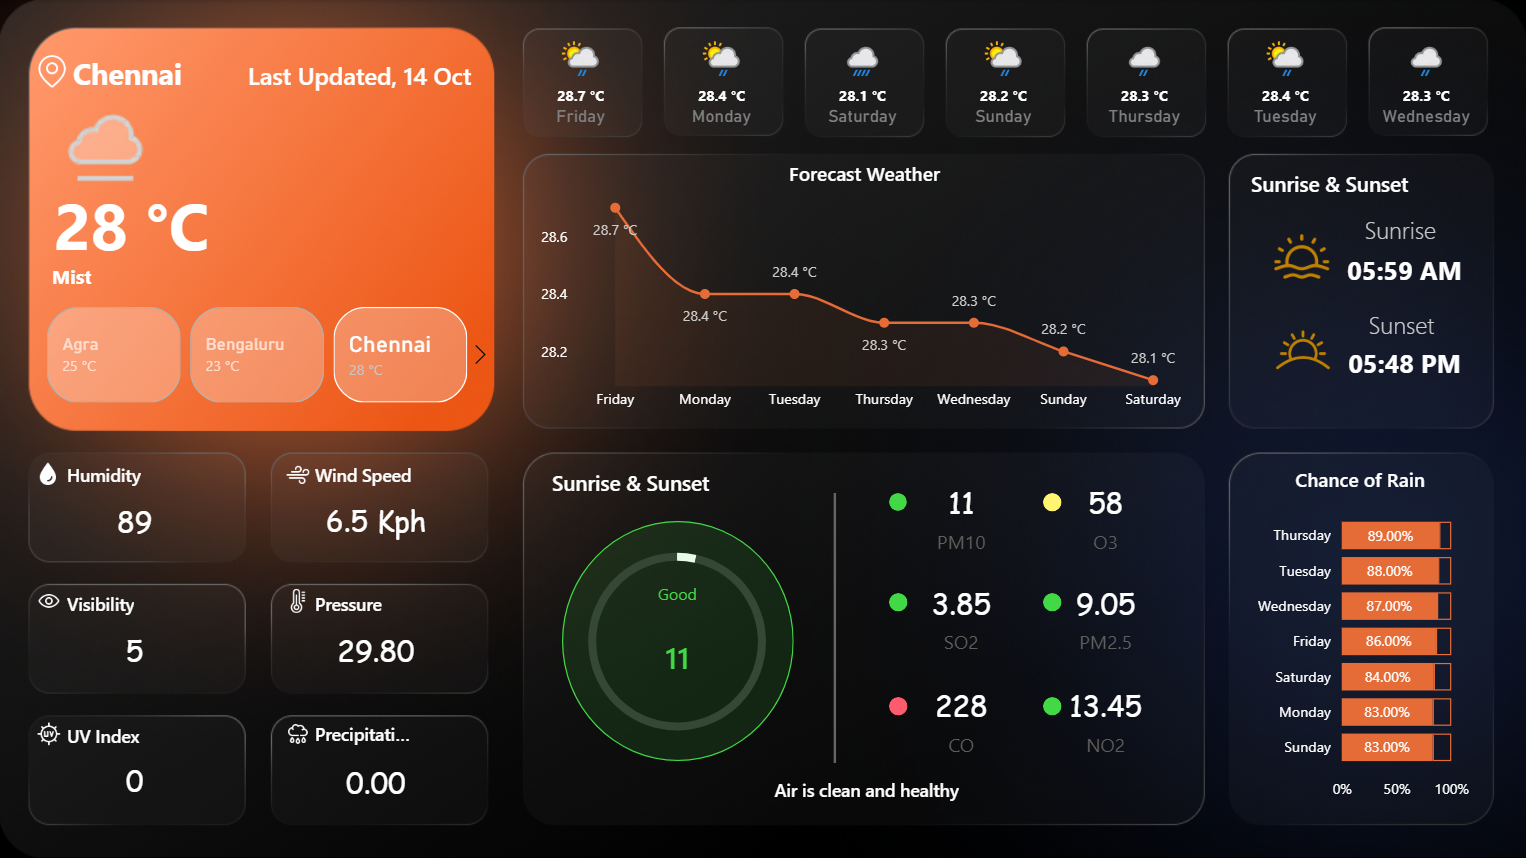

Layout of this report page (visuals, bound fields, positions):
{"tool":"powerbi","page":{"name":"Page 1","canvas":[1280,720],"ordinal":0},"visuals":[{"type":"donutChart","fields":{"Y":["Sum(Current.current.air_quality.pm10)","_Measures.Left_value_PM10"]},"box":[470,426,196,222],"z":0},{"type":"advancedSlicerVisual","fields":{"Values":["Locations.location.name"]},"box":[15.1,251.9,403.3,90.8],"z":1000},{"type":"shape","box":[15.7,141.4,190,90],"z":2000},{"type":"shape","box":[44.7,213.8,356.3,34.9],"z":3000},{"type":"shape","box":[61.9,44,133.5,34.4],"z":4000},{"type":"shape","box":[208.2,46.1,206.8,33.5],"z":5000},{"type":"image","box":[26.2,39.9,37.2,39.9],"z":6000},{"type":"cardVisual","fields":{"Data":["Min(Current.current.condition.icon)"]},"box":[0,55.7,150,111.4],"z":7000},{"type":"image","box":[27,488.5,29.6,29.6],"z":8000},{"type":"shape","box":[264.7,384,83.6,26.1],"z":9000},{"type":"image","box":[26.1,381.4,30.5,30.5],"z":10000},{"type":"image","box":[235.1,382.3,29.6,29.6],"z":11000},{"type":"image","box":[235.1,488.5,29.6,29.6],"z":12000},{"type":"image","box":[27,599.1,29.6,29.6],"z":13000},{"type":"image","box":[235.1,599.1,29.6,29.6],"z":14000},{"type":"shape","box":[56.6,492,83.6,26.1],"z":15000},{"type":"shape","box":[56.6,602.6,83.6,26.1],"z":16000},{"type":"shape","box":[264.7,600.8,83.6,26.1],"z":17000},{"type":"shape","box":[264.7,492,83.6,26.1],"z":18000},{"type":"shape","box":[56.6,384,83.6,26.1],"z":19000},{"type":"card","fields":{"Values":["Sum(Current.current.humidity)"]},"box":[62,410.2,103,55.3],"z":20000},{"type":"card","fields":{"Values":["Sum(Current.current.uv)"]},"box":[62,627.1,103,56.1],"z":21000},{"type":"card","fields":{"Values":["Sum(Current.current.vis_km)"]},"box":[62,518.2,103,56.1],"z":22000},{"type":"card","fields":{"Values":["Sum(Current.current.precip_in)"]},"box":[264.1,628.8,103.4,55.9],"z":23000},{"type":"card","fields":{"Values":["Sum(Current.current.pressure_in)"]},"box":[264.1,518.4,103.4,55.9],"z":24000},{"type":"card","fields":{"Values":["_Measures.Wind_Speed"]},"box":[254.5,409.4,122.2,56.1],"z":25000},{"type":"advancedSlicerVisual","fields":{"Values":["Forcast_Day.Day_Name"]},"box":[429.4,23.4,829.9,100.5],"z":26000},{"type":"lineChart","title":"Forecast Weather","fields":{"Y":["Sum(Forcast_Day.forecast.forecastday.day.avgtemp_c)"],"Category":["Forcast_Day.Day_Name"]},"box":[447.9,134.8,553.4,217.7],"z":27000},{"type":"shape","box":[1048.4,140.9,152.4,25.9],"z":28000},{"type":"shape","box":[1081.3,180,190.5,90.7],"z":29000},{"type":"shape","box":[1081.3,257.5,190.5,90.7],"z":30000},{"type":"shape","box":[1132.6,257.5,82.8,26.3],"z":31000},{"type":"shape","box":[1131.2,178.7,84.1,26.3],"z":32000},{"type":"image","box":[1051.1,186.6,80.1,56.5],"z":33000},{"type":"image","box":[1051.1,257.5,81.5,69.6],"z":34000},{"type":"hundredPercentStackedBarChart","title":"Chance of Rain","fields":{"Y":["Sum(Forcast_Day.forecast.forecastday.day.daily_chance_of_rain)","Current.Left_value_Rain"],"Category":["Forcast_Day.Day_Name"]},"box":[1043.3,390.9,192.7,287.7],"z":35000},{"type":"shape","box":[463.1,391.2,152.4,25.9],"z":36000},{"type":"card","fields":{"Values":["Sum(Current.current.air_quality.o3)"]},"box":[866.4,397,119.9,72.4],"z":37000},{"type":"card","fields":{"Values":["Sum(Current.current.air_quality.pm10)"]},"box":[745.5,397,121,72.4],"z":38000},{"type":"card","fields":{"Values":["Sum(Current.current.air_quality.so2)"]},"box":[745.5,481.8,121,71.3],"z":39000},{"type":"card","fields":{"Values":["Sum(Current.current.air_quality.pm2_5)"]},"box":[866.4,481.8,119.9,71.3],"z":40000},{"type":"card","fields":{"Values":["Sum(Current.current.air_quality.co)"]},"box":[745.5,566.6,121,72.4],"z":41000},{"type":"card","fields":{"Values":["Sum(Current.current.air_quality.no2)"]},"box":[866.4,566.6,119.9,72.4],"z":42000},{"type":"shape","box":[745.5,412.5,15,15],"z":43000},{"type":"shape","box":[873.7,412.5,15.5,15.5],"z":44000},{"type":"shape","box":[745.5,496.3,15.5,15.5],"z":45000},{"type":"shape","box":[745.5,583.1,15.5,15.5],"z":46000},{"type":"shape","box":[873.7,583.1,15.5,15.5],"z":47000},{"type":"shape","box":[873.7,496.3,15.5,15.5],"z":48000},{"type":"shape","box":[675,413,50,226],"z":49000},{"type":"shape","box":[471,436,194,201],"z":50000},{"type":"card","fields":{"Values":["Sum(Current.current.air_quality.pm10)"]},"box":[504,488,128,109],"z":51000},{"type":"shape","box":[572,648,309,26],"z":52000}]}

Visuals, with their boxes in screenshot pixels (x1, y1, x2, y2), scaled from the page's 1280x720 canvas onto the 1526x858 screenshot:
donutChart - Sum(Current.current.air_quality.pm10) x _Measures.Left_value_PM10: pyautogui.locateOnScreen(560, 508, 794, 772)
advancedSlicerVisual - Locations.location.name: pyautogui.locateOnScreen(18, 300, 499, 408)
shape: pyautogui.locateOnScreen(19, 169, 245, 276)
shape: pyautogui.locateOnScreen(53, 255, 478, 296)
shape: pyautogui.locateOnScreen(74, 52, 233, 93)
shape: pyautogui.locateOnScreen(248, 55, 495, 95)
image: pyautogui.locateOnScreen(31, 48, 76, 95)
cardVisual - Min(Current.current.condition.icon): pyautogui.locateOnScreen(0, 66, 179, 199)
image: pyautogui.locateOnScreen(32, 582, 67, 617)
shape: pyautogui.locateOnScreen(316, 458, 415, 489)
image: pyautogui.locateOnScreen(31, 455, 67, 491)
image: pyautogui.locateOnScreen(280, 456, 316, 491)
image: pyautogui.locateOnScreen(280, 582, 316, 617)
image: pyautogui.locateOnScreen(32, 714, 67, 749)
image: pyautogui.locateOnScreen(280, 714, 316, 749)
shape: pyautogui.locateOnScreen(67, 586, 167, 617)
shape: pyautogui.locateOnScreen(67, 718, 167, 749)
shape: pyautogui.locateOnScreen(316, 716, 415, 747)
shape: pyautogui.locateOnScreen(316, 586, 415, 617)
shape: pyautogui.locateOnScreen(67, 458, 167, 489)
card - Sum(Current.current.humidity): pyautogui.locateOnScreen(74, 489, 197, 555)
card - Sum(Current.current.uv): pyautogui.locateOnScreen(74, 747, 197, 814)
card - Sum(Current.current.vis_km): pyautogui.locateOnScreen(74, 618, 197, 684)
card - Sum(Current.current.precip_in): pyautogui.locateOnScreen(315, 749, 438, 816)
card - Sum(Current.current.pressure_in): pyautogui.locateOnScreen(315, 618, 438, 684)
card - _Measures.Wind_Speed: pyautogui.locateOnScreen(303, 488, 449, 555)
advancedSlicerVisual - Forcast_Day.Day_Name: pyautogui.locateOnScreen(512, 28, 1501, 148)
"Forecast Weather" lineChart: pyautogui.locateOnScreen(534, 161, 1194, 420)
shape: pyautogui.locateOnScreen(1250, 168, 1432, 199)
shape: pyautogui.locateOnScreen(1289, 214, 1516, 323)
shape: pyautogui.locateOnScreen(1289, 307, 1516, 415)
shape: pyautogui.locateOnScreen(1350, 307, 1449, 338)
shape: pyautogui.locateOnScreen(1349, 213, 1449, 244)
image: pyautogui.locateOnScreen(1253, 222, 1349, 290)
image: pyautogui.locateOnScreen(1253, 307, 1350, 390)
"Chance of Rain" hundredPercentStackedBarChart: pyautogui.locateOnScreen(1244, 466, 1474, 809)
shape: pyautogui.locateOnScreen(552, 466, 734, 497)
card - Sum(Current.current.air_quality.o3): pyautogui.locateOnScreen(1033, 473, 1176, 559)
card - Sum(Current.current.air_quality.pm10): pyautogui.locateOnScreen(889, 473, 1033, 559)
card - Sum(Current.current.air_quality.so2): pyautogui.locateOnScreen(889, 574, 1033, 659)
card - Sum(Current.current.air_quality.pm2_5): pyautogui.locateOnScreen(1033, 574, 1176, 659)
card - Sum(Current.current.air_quality.co): pyautogui.locateOnScreen(889, 675, 1033, 761)
card - Sum(Current.current.air_quality.no2): pyautogui.locateOnScreen(1033, 675, 1176, 761)
shape: pyautogui.locateOnScreen(889, 492, 907, 509)
shape: pyautogui.locateOnScreen(1042, 492, 1060, 510)
shape: pyautogui.locateOnScreen(889, 591, 907, 610)
shape: pyautogui.locateOnScreen(889, 695, 907, 713)
shape: pyautogui.locateOnScreen(1042, 695, 1060, 713)
shape: pyautogui.locateOnScreen(1042, 591, 1060, 610)
shape: pyautogui.locateOnScreen(805, 492, 864, 761)
shape: pyautogui.locateOnScreen(562, 520, 793, 759)
card - Sum(Current.current.air_quality.pm10): pyautogui.locateOnScreen(601, 582, 753, 711)
shape: pyautogui.locateOnScreen(682, 772, 1050, 803)
